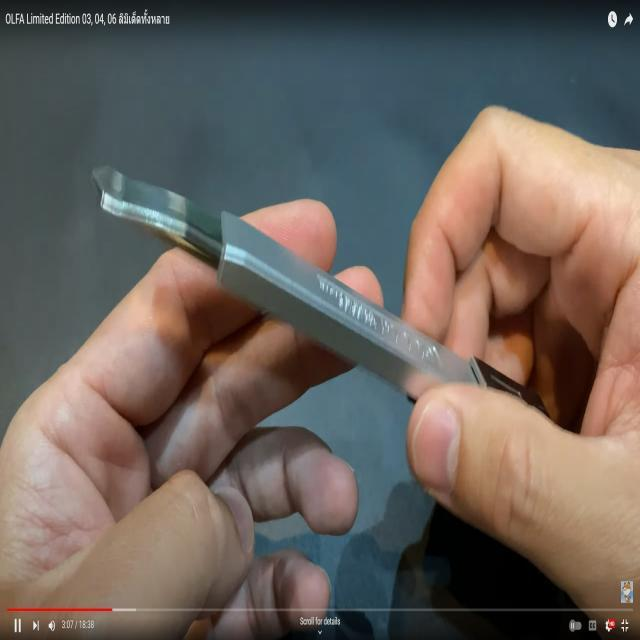cutter: (61, 75, 640, 549)
